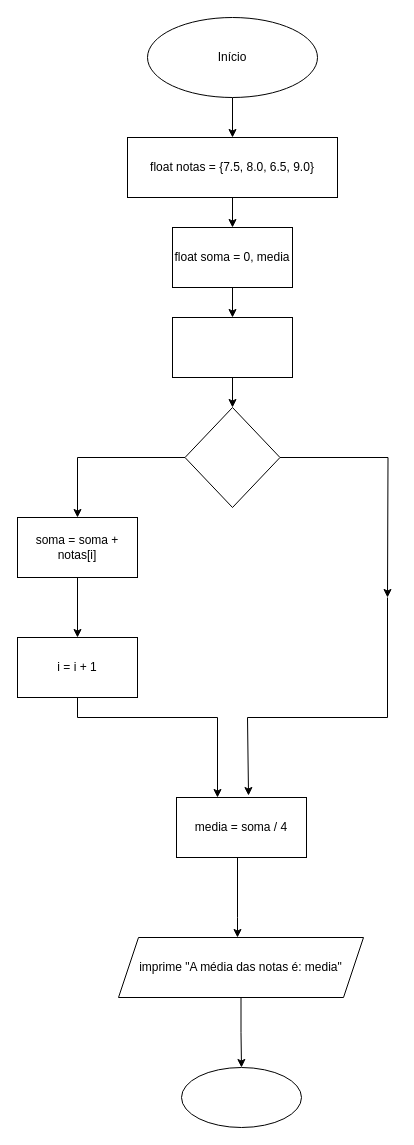
Some shapes in this 414 by 1145 pixel diagram are drawn without their labels. The shapes that lost their labels are listed below. From the top down, each one's box as (x1, y1, x2, y2) in pixels, then its label:
(172, 316, 292, 378): int i = 0
(184, 406, 280, 508): i < 4
(180, 1066, 302, 1128): Fim
